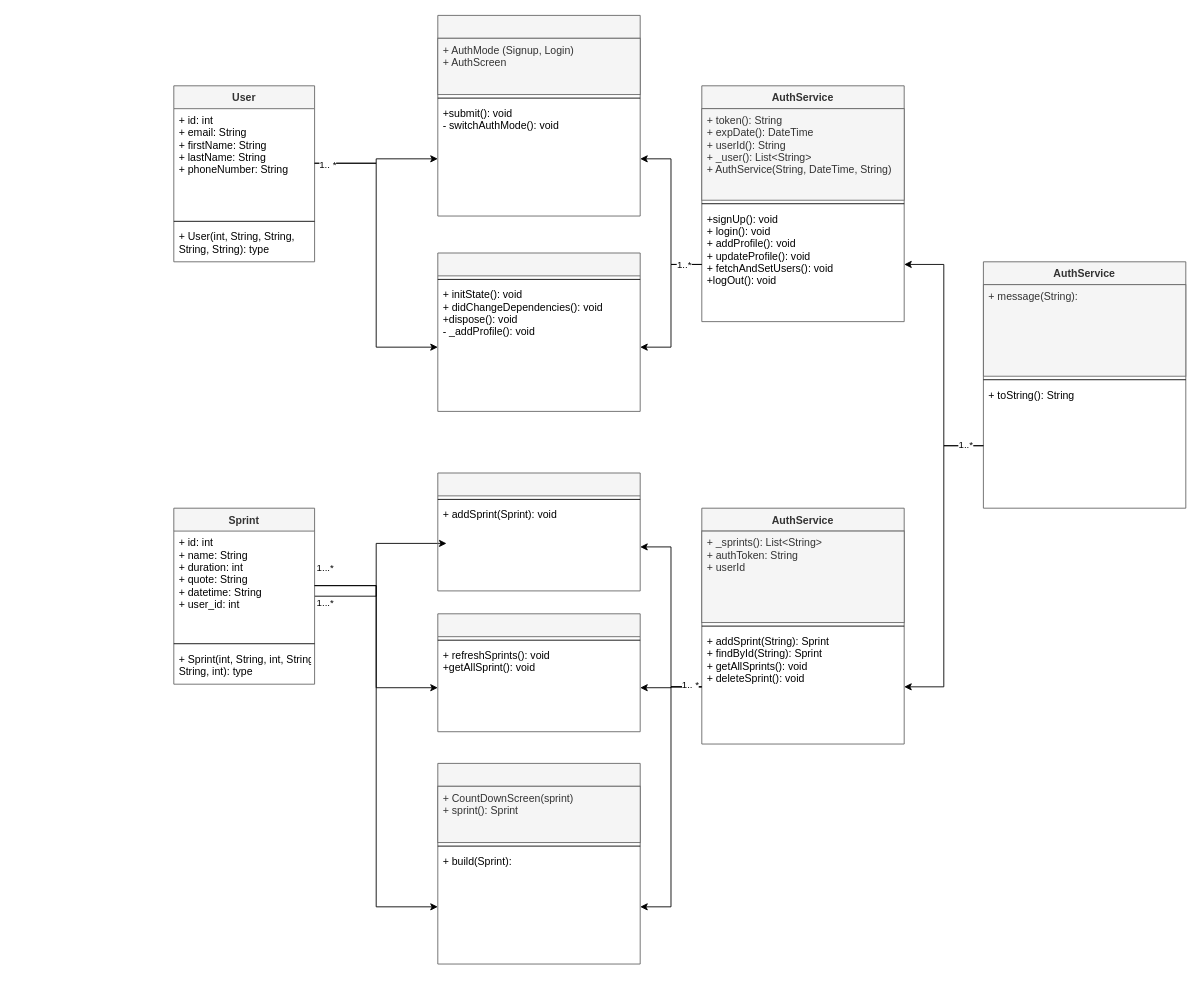
This 1201x982 diagram has some shape labels left out. The shapes that lost their labels are listed below. From the top down, each one's box as (x1, y1, x2, y2) in pixels, then its label:
(437, 15, 640, 216): AuthenticationViewModel
(437, 252, 640, 411): ProfileViewModel
(437, 472, 640, 591): NewSprintViewModel
(437, 613, 640, 732): AllSprintViewModel
(437, 763, 640, 964): CountDownViewModel
